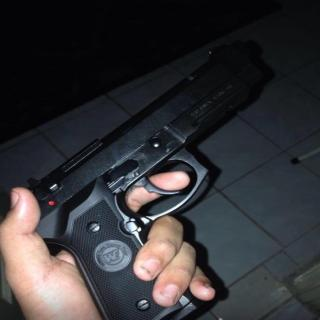gun: (4, 3, 302, 320)
